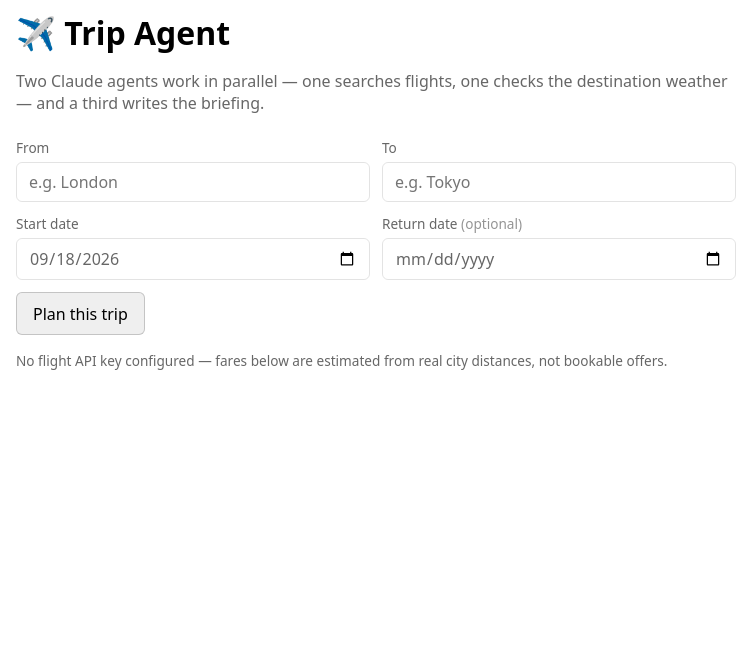
it: results › shows 'No warnings' for a calm day
The image size is (753, 662).
Type "Chennai" into the field labelled "From".
click(193, 182); type("Chennai")  # box [16,162,370,202]
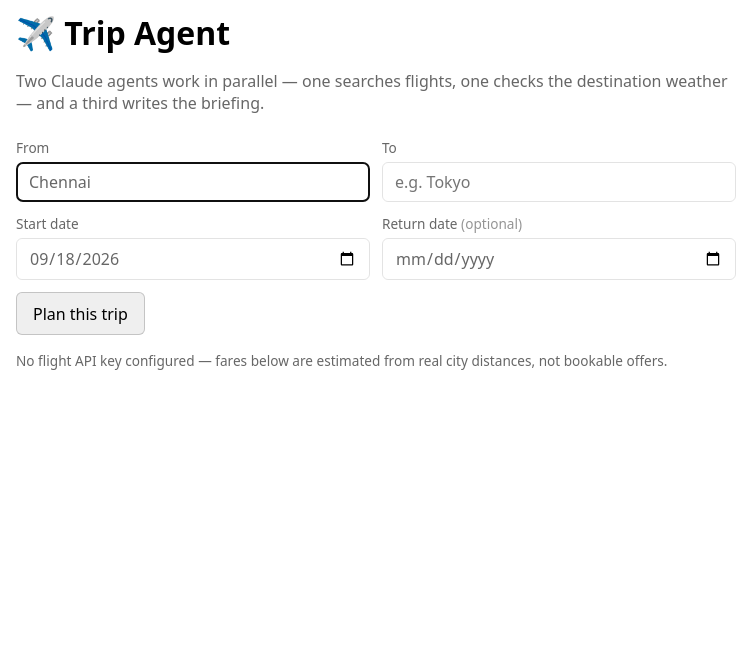
Type "Tokyo" into the field labelled "To".
click(559, 182); type("Tokyo")  # box [382,162,736,202]
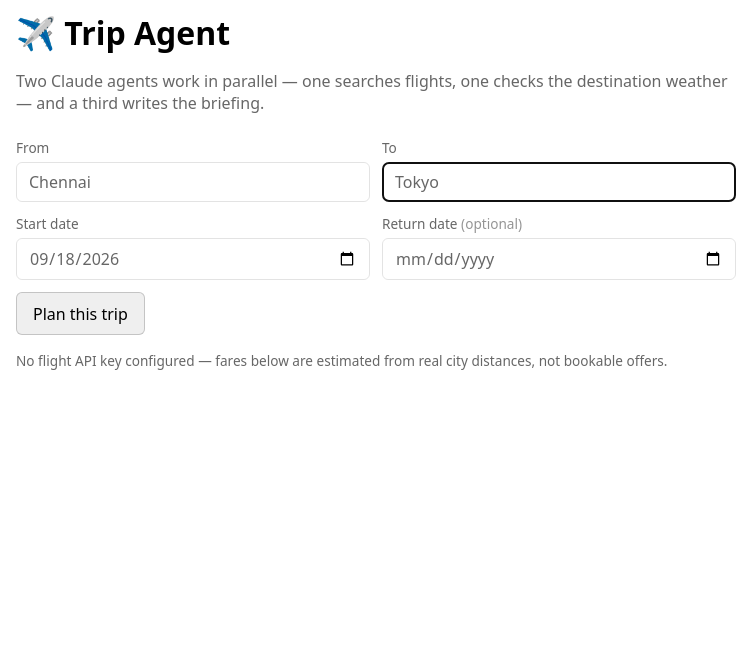
Type "2027-03-10" into the date field labelled "Start date".
click(193, 259); type("2027-03-10")  # box [16,238,370,280]
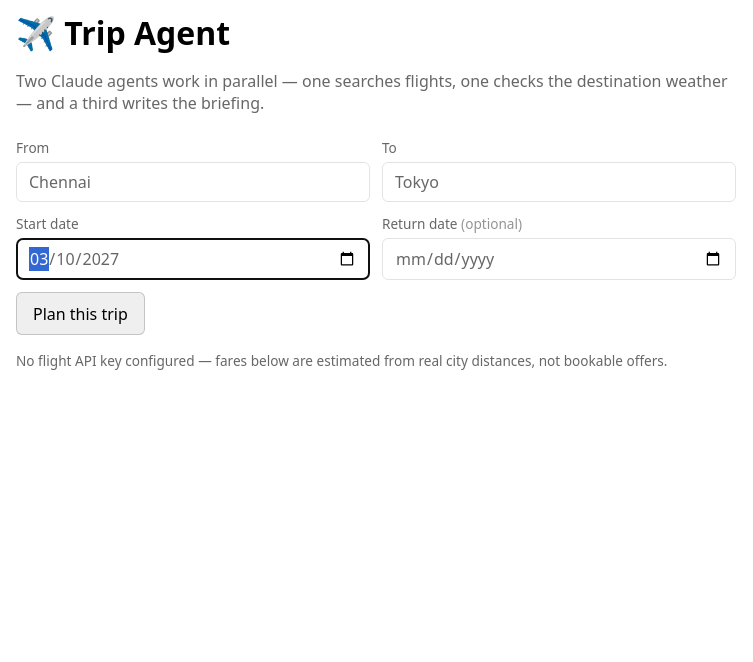
Type "2027-03-17" into the date field labelled "Return date (optional)".
click(559, 259); type("2027-03-17")  # box [382,238,736,280]
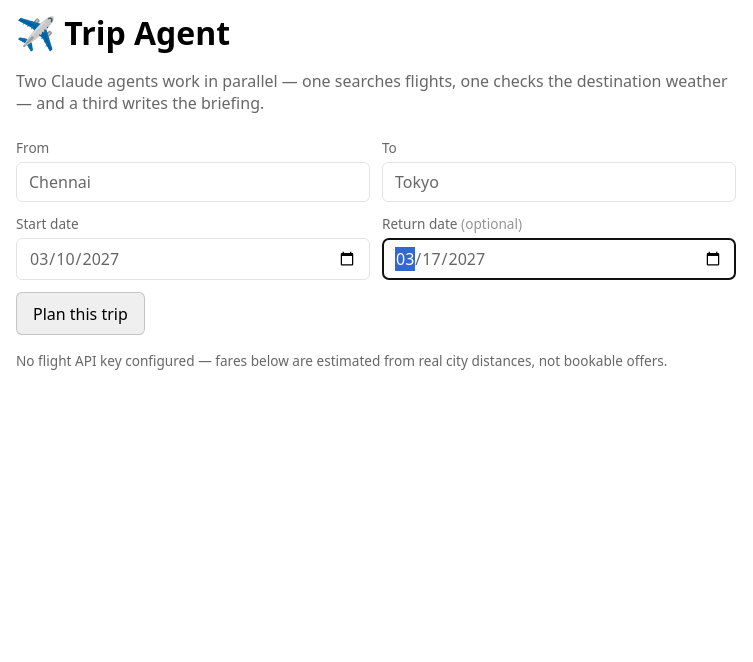
Click the button "Plan this trip".
click(80, 314)  # box [16,292,145,335]
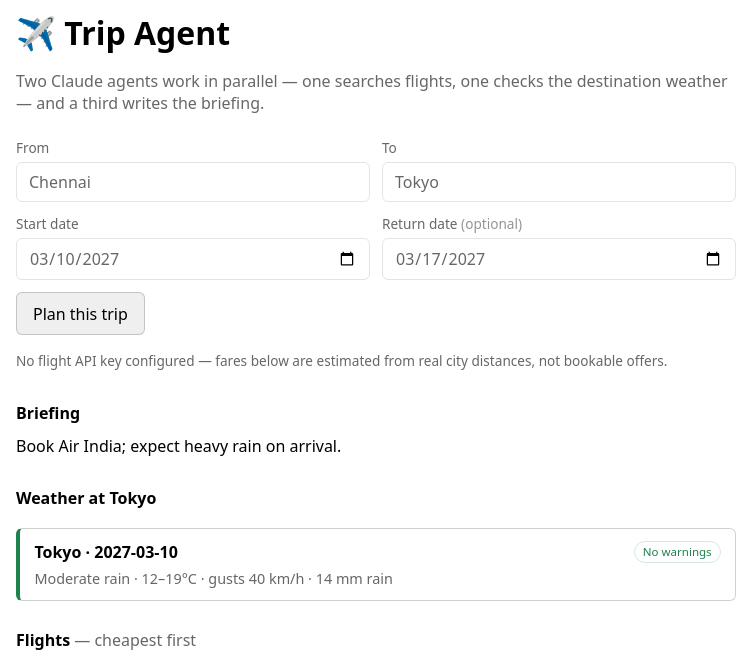
Expected: the text "Book Air India; expect heavy rain on arrival." is shown, [16,435,341,457]
Expected: the text "No warnings" is shown, [634,541,721,563]
